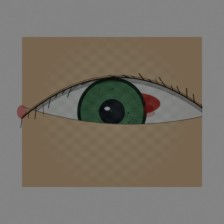hemorrhage_spot: (87, 70, 172, 138)
